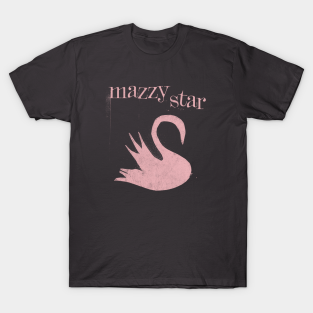design: (107, 82, 208, 193)
